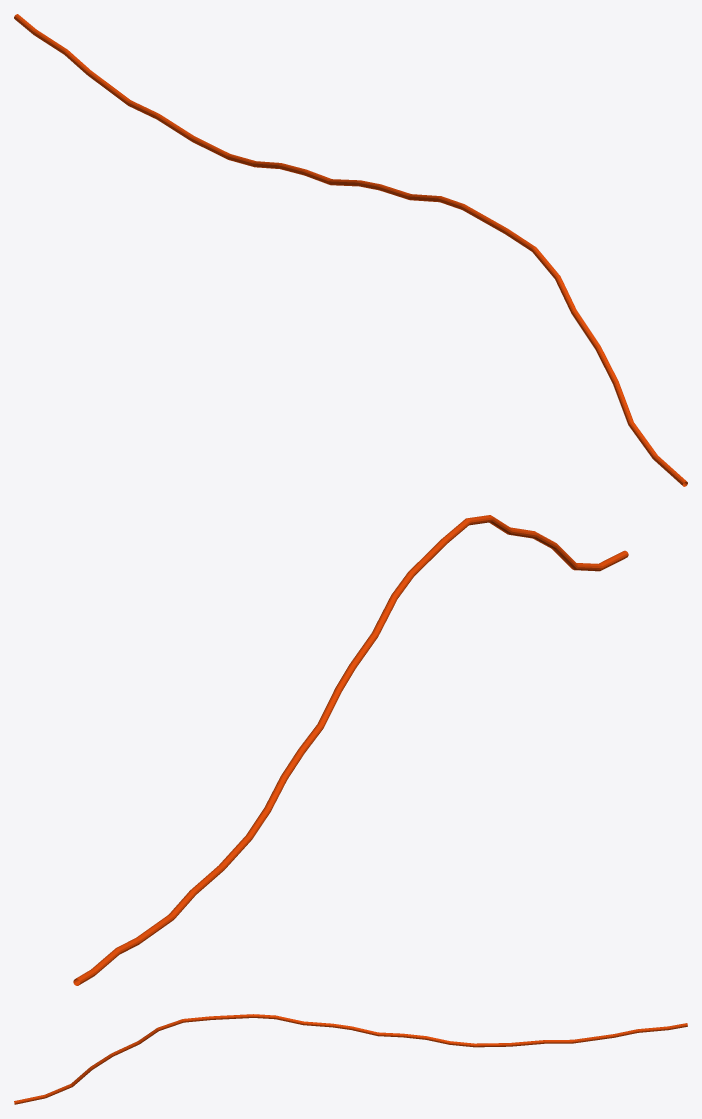
The model's file is Cable14.fbx.
3 views of the same model, one above another, from view 1: azimuth 30°, elevation 25°; view 2: azimuth 150°, elevation 25°; view 3: azimuth 270°, elevation 25° (orthographic). The views are drawn at different scales.
Parts seen in each view (by area): view 1: Vert.013; view 2: Vert.013; view 3: Vert.013.
Boxes of the visible parts, box(x1,y1,x2,y2) form: Vert.013: box(14, 14, 687, 486); Vert.013: box(73, 515, 628, 985); Vert.013: box(14, 1014, 687, 1104).
Size of the model in its own units: 39.91 by 48.86 by 355.
